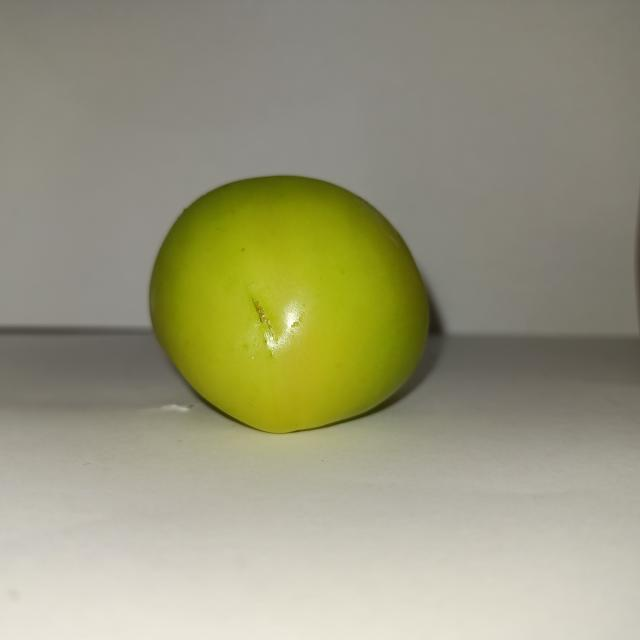Red: (147, 172, 432, 434)
